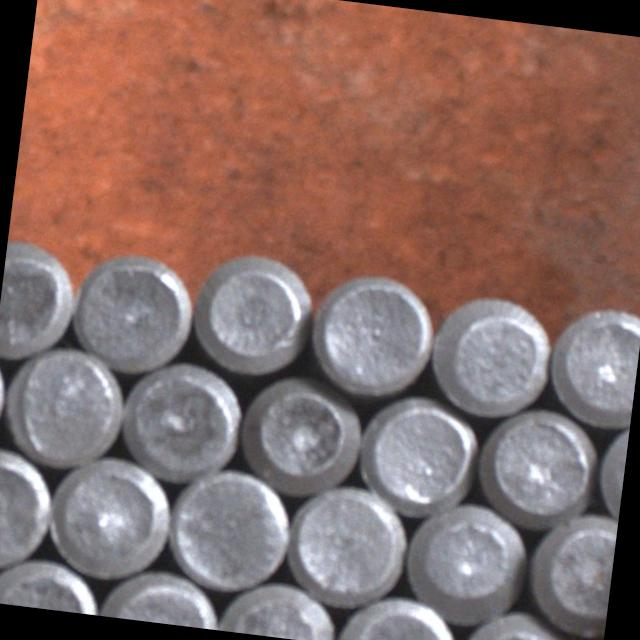tool: (40, 448, 178, 586), (65, 240, 201, 378), (161, 460, 297, 597), (304, 266, 439, 403), (424, 285, 558, 423), (188, 242, 318, 381), (112, 355, 246, 489), (282, 478, 414, 612), (0, 338, 131, 473), (399, 493, 532, 625), (234, 369, 368, 498), (353, 390, 482, 520), (475, 400, 603, 530), (544, 295, 640, 428), (525, 504, 619, 636), (0, 231, 83, 363), (96, 563, 224, 630), (217, 572, 340, 640), (0, 444, 58, 574), (336, 587, 465, 640), (459, 602, 582, 640)
